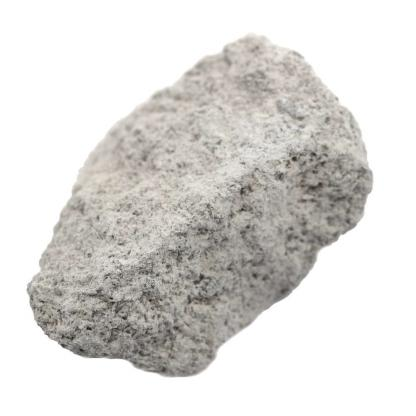Sedimentary_Limestone: (23, 30, 385, 388)
